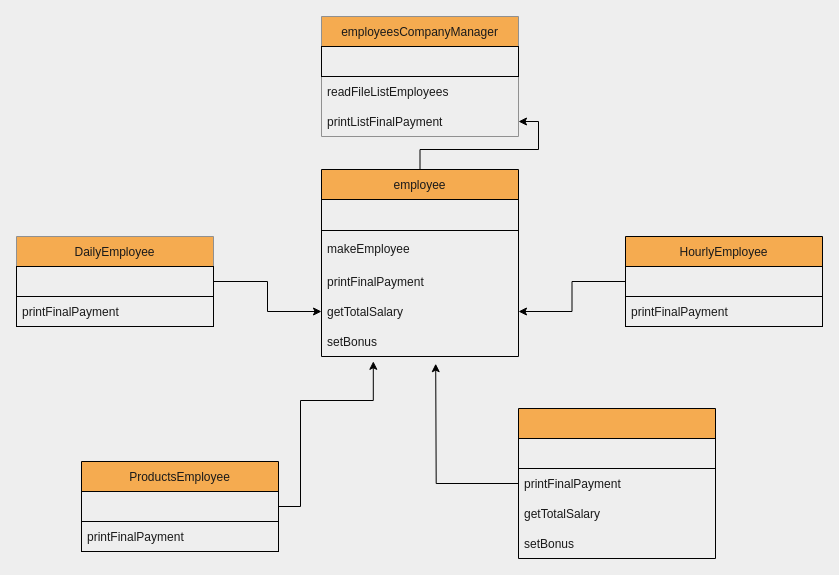
The diagram is 839 pixels wide and 575 high, and some of its shapes have lost their labels. The shapes that lost their labels are listed below. From the top down, each one's box as (x1, y1, x2, y2) in pixels, then its label:
(320, 46, 518, 76): employees
(518, 408, 716, 558): Manager
